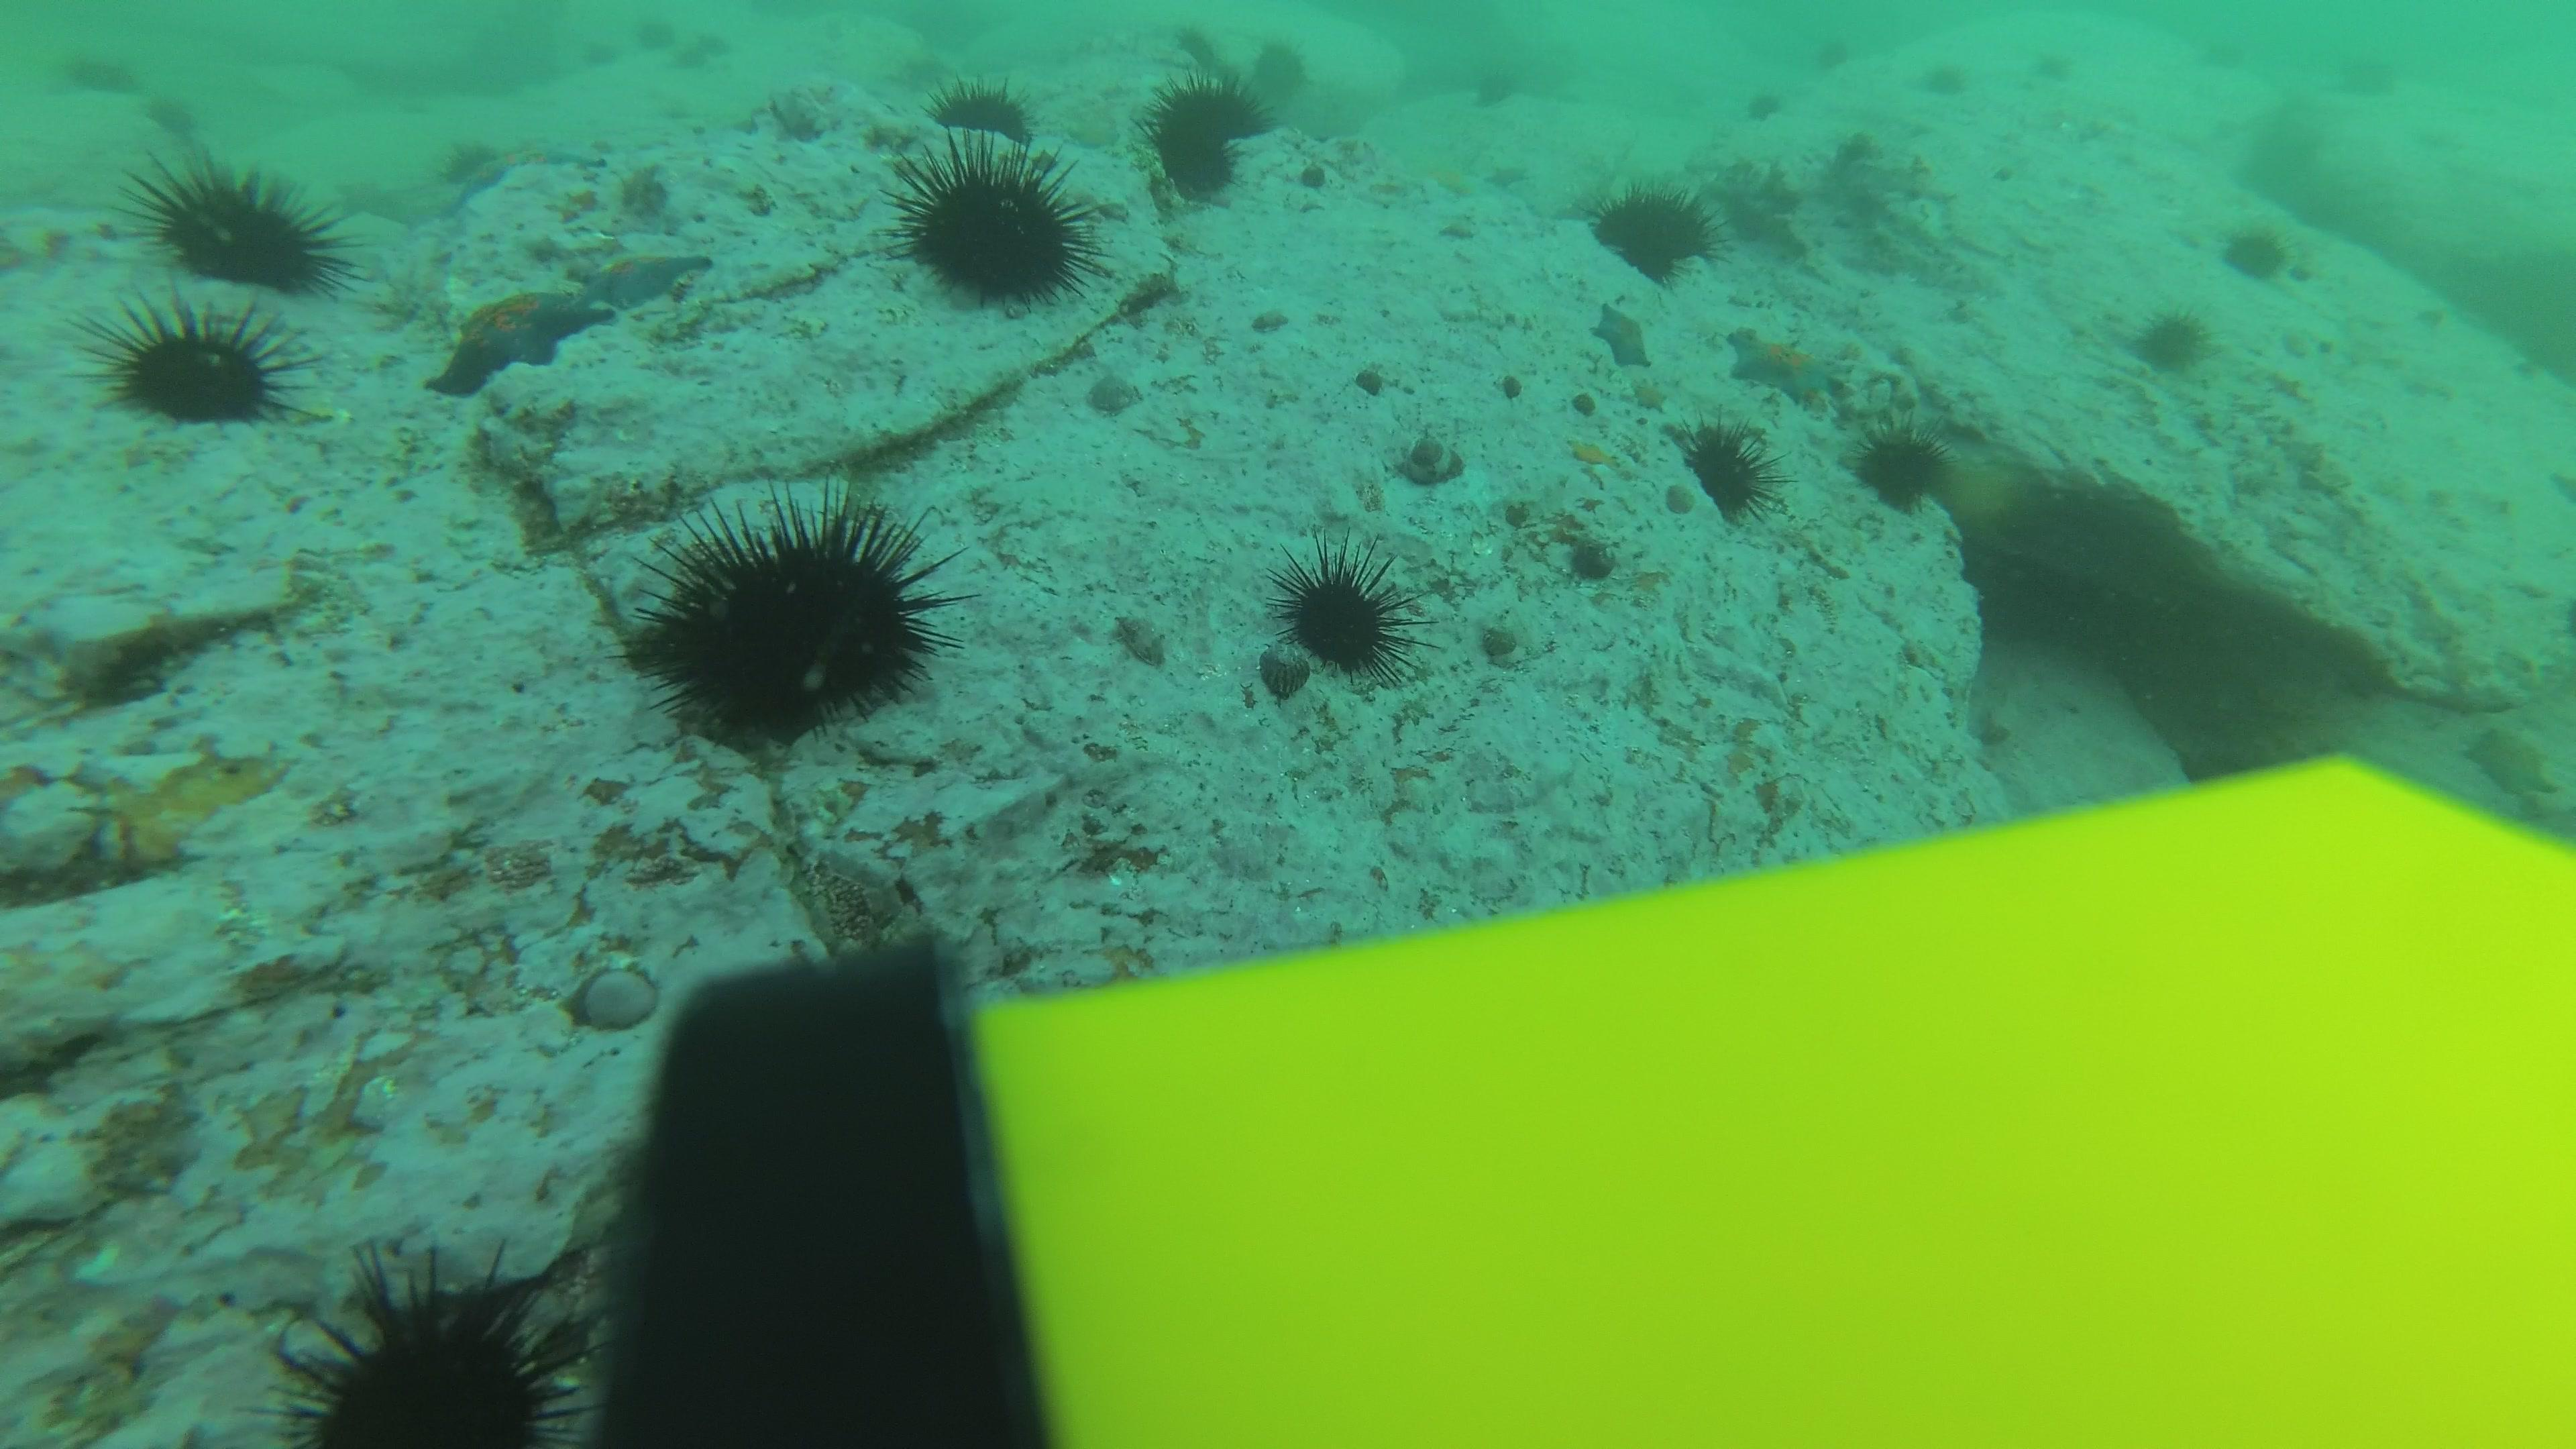urchin: (621, 515, 948, 738), (257, 1237, 594, 1449), (138, 145, 361, 292), (85, 303, 324, 437), (890, 150, 1097, 297), (1265, 547, 1419, 663), (1157, 57, 1269, 218), (1591, 186, 1718, 276), (1690, 414, 1783, 531), (1852, 421, 1944, 513), (931, 73, 1040, 134), (2224, 214, 2289, 276), (2137, 317, 2206, 373)
